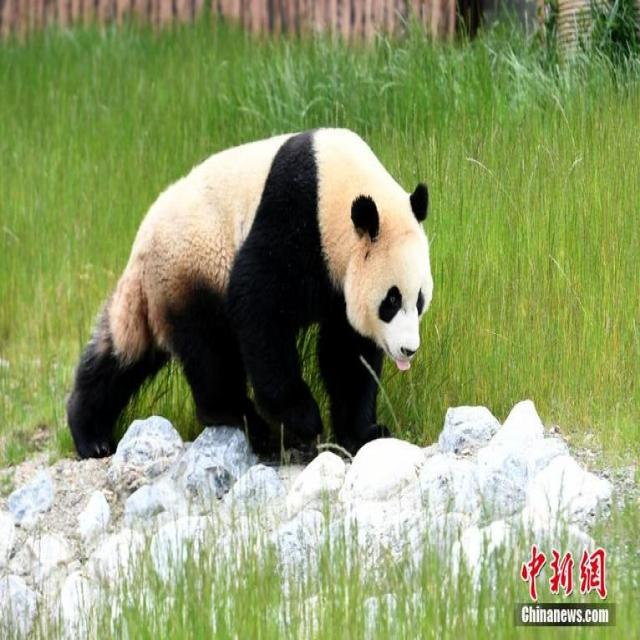panda: (59, 122, 437, 470)
